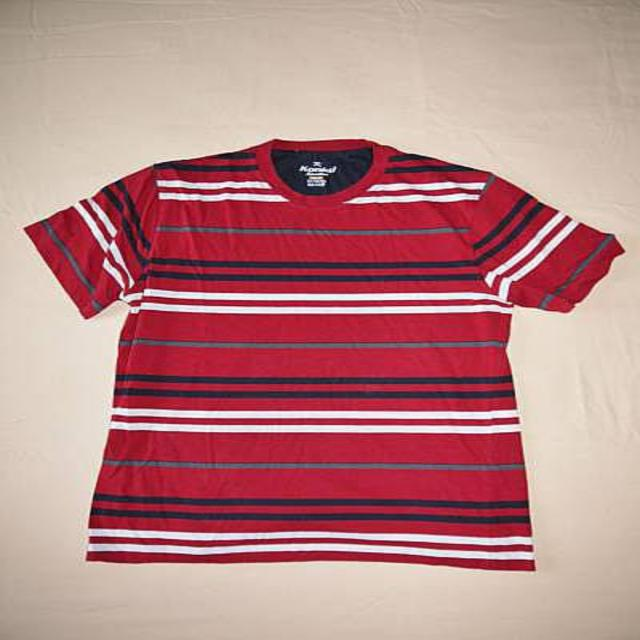T_SHIRT: (18, 126, 640, 578)
